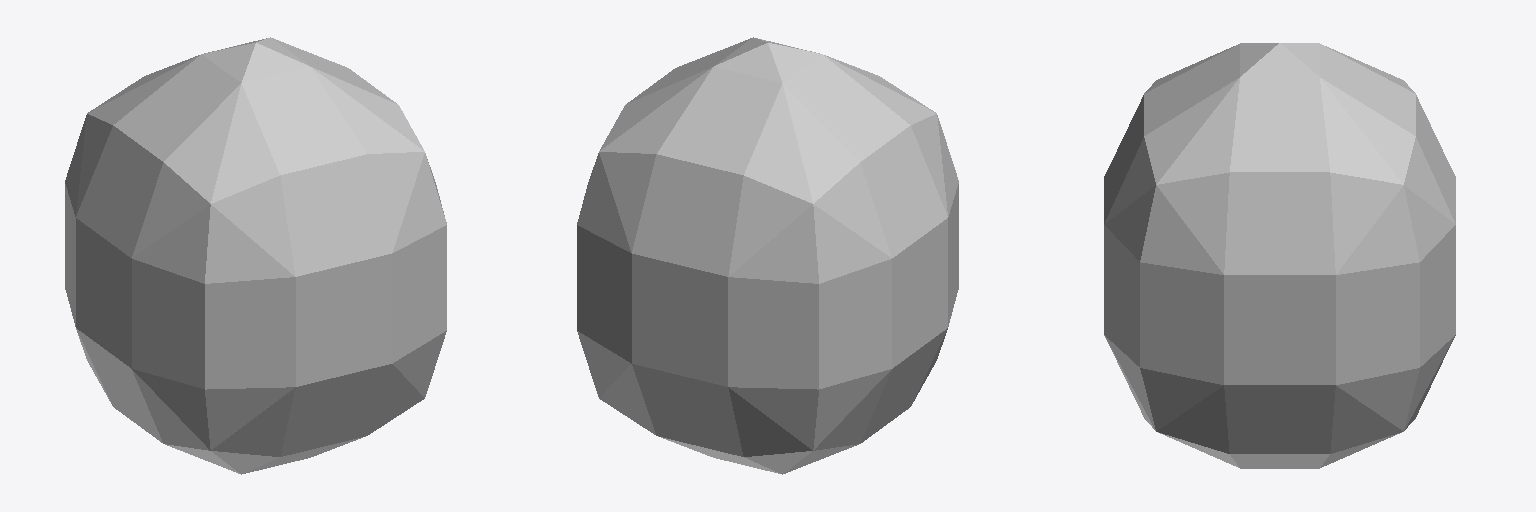
Rendered from teeth_smoothed_20.obj.
3 views of the same model, side by side, from view 1: azimuth 30°, elevation 25°; view 2: azimuth 150°, elevation 25°; view 3: azimuth 270°, elevation 25° (orthographic).
Bounding box in the file's own units: 1.32 × 1.77 × 1.32.